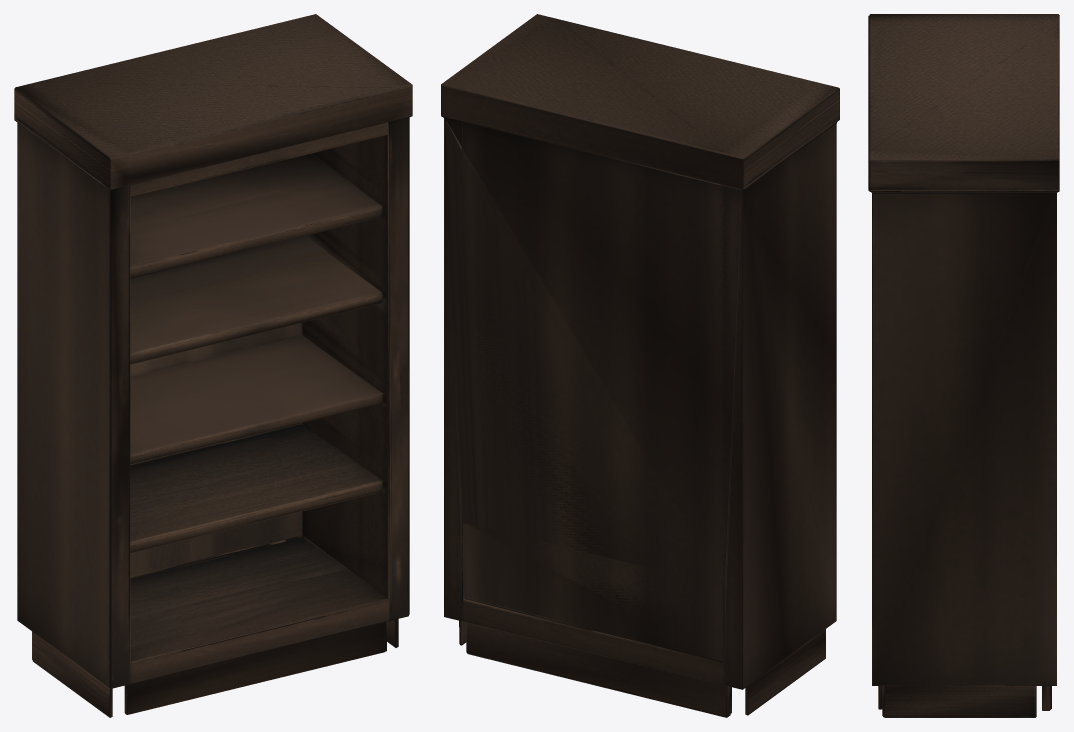
File: WoodenArchiveShelf.fbx
3 views of the same model, side by side, from view 1: azimuth 30°, elevation 25°; view 2: azimuth 150°, elevation 25°; view 3: azimuth 270°, elevation 25° (orthographic).
Visible parts, largest first — view 1: mesh_node; view 2: mesh_node; view 3: mesh_node.
Part boxes in pixels (bbox=[...]): mesh_node: bbox=[14, 14, 412, 717]; mesh_node: bbox=[441, 14, 839, 717]; mesh_node: bbox=[868, 14, 1059, 717].
Size of the model in its own units: 106 by 190 by 58.71.
Materials: 1 (1 with a texture image).
